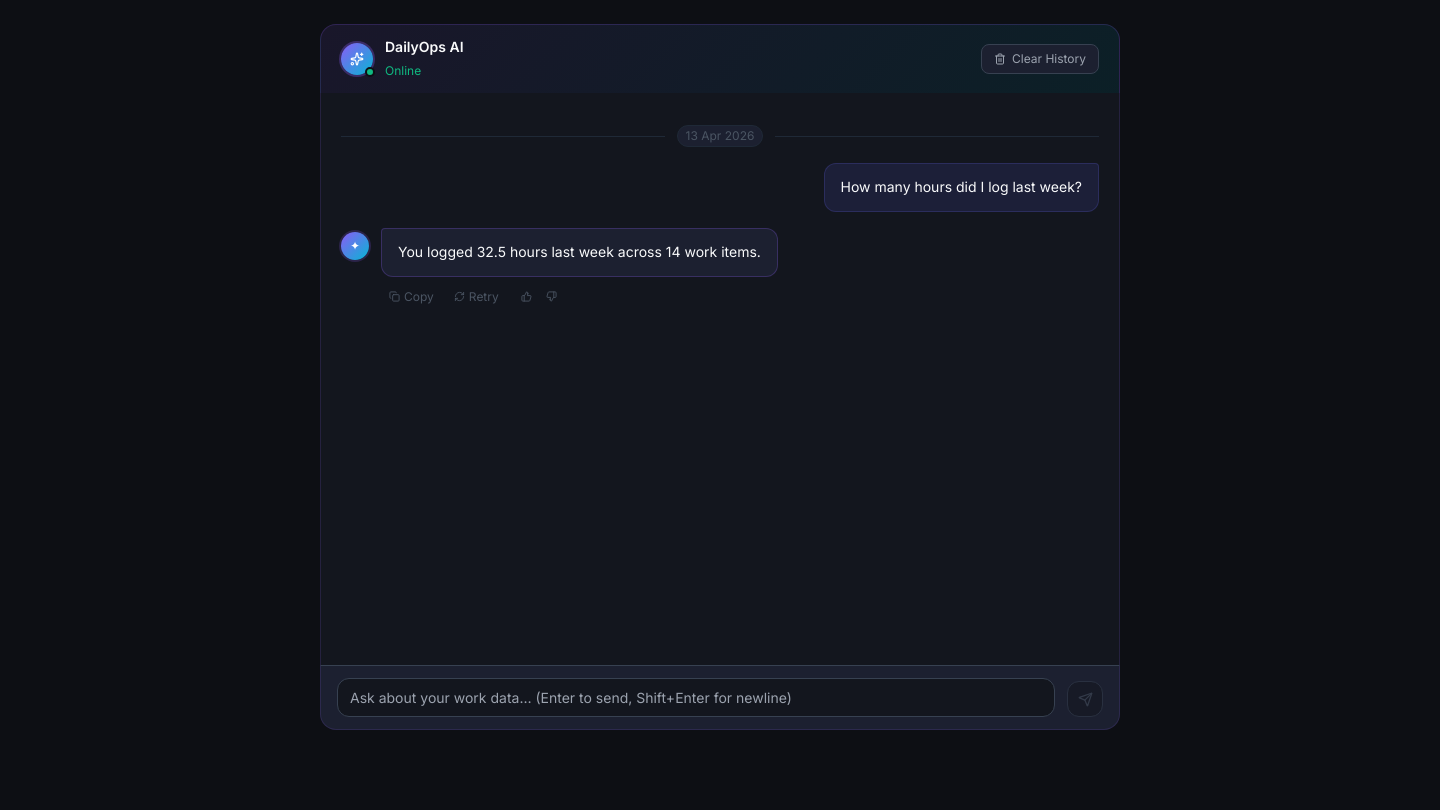
Test: ChatPage — clear history › clear history button removes all messages from view
The image size is (1440, 810).
Expected: the text "How many hours did I log last week?" is shown, [840,176,1082,199]
What coordinates should you click on to do the following:
click the button "Clear History"
I would click on:
 (1040, 59)
Its box is [981,44,1099,74].
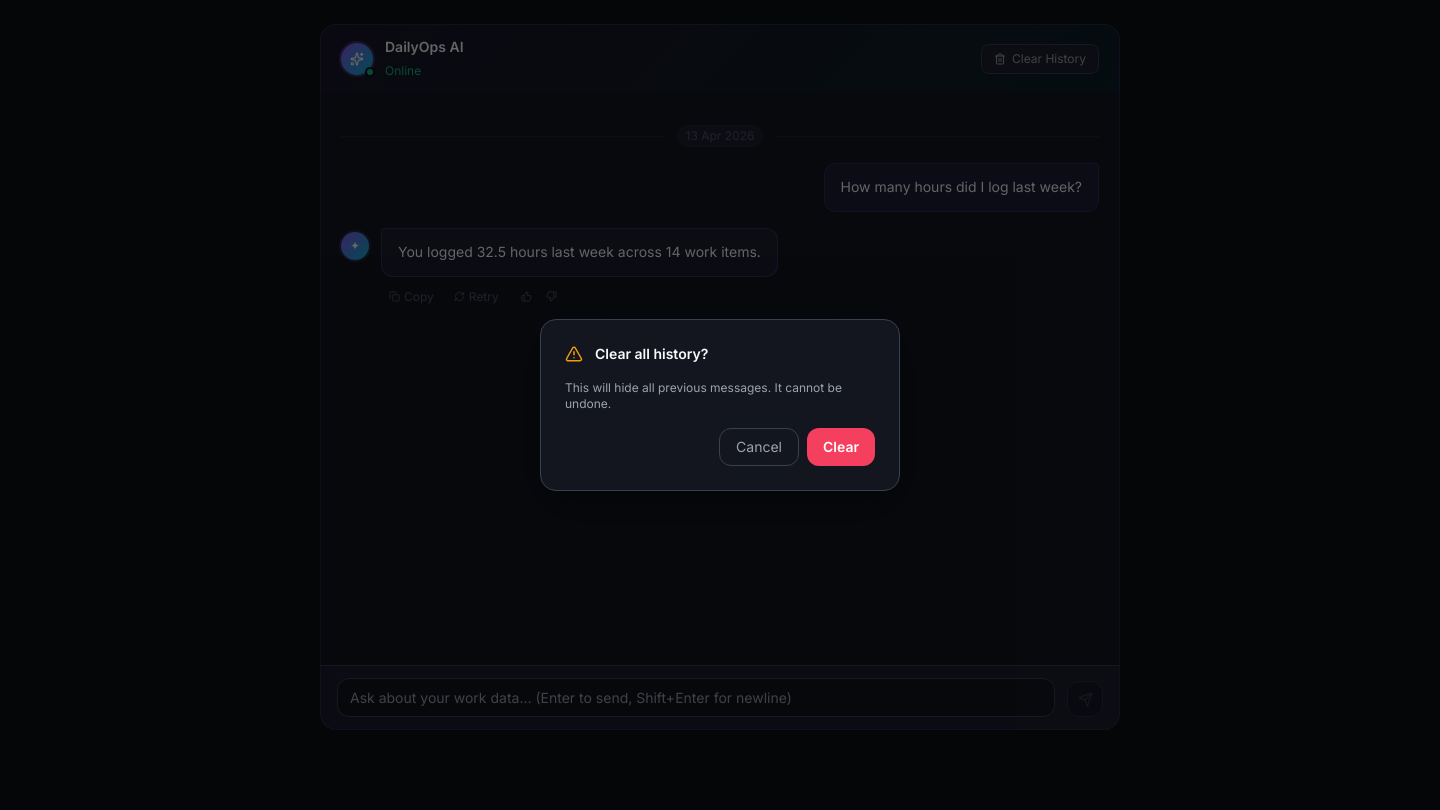
What coordinates should you click on to do the following:
click the button "Clear"
I would click on:
 (841, 447)
Its box is [807,428,875,466].
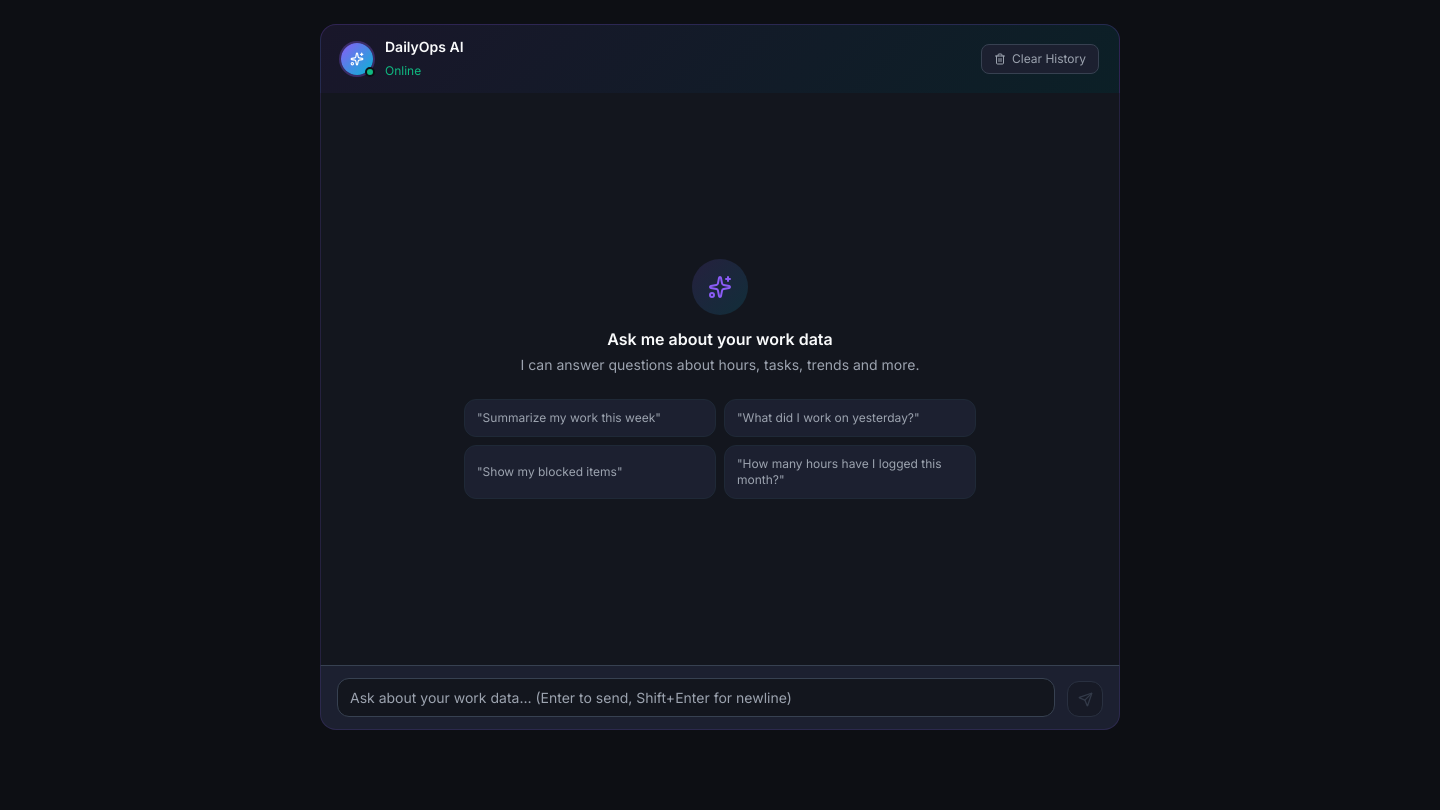
Expected: the text "How many hours did I log last week?" is gone
